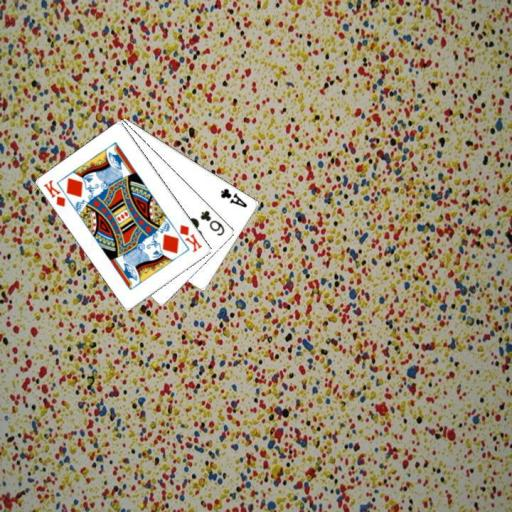6C: (197, 207, 226, 237)
AC: (217, 185, 249, 209)
KD: (176, 221, 204, 254), (41, 177, 68, 209)
